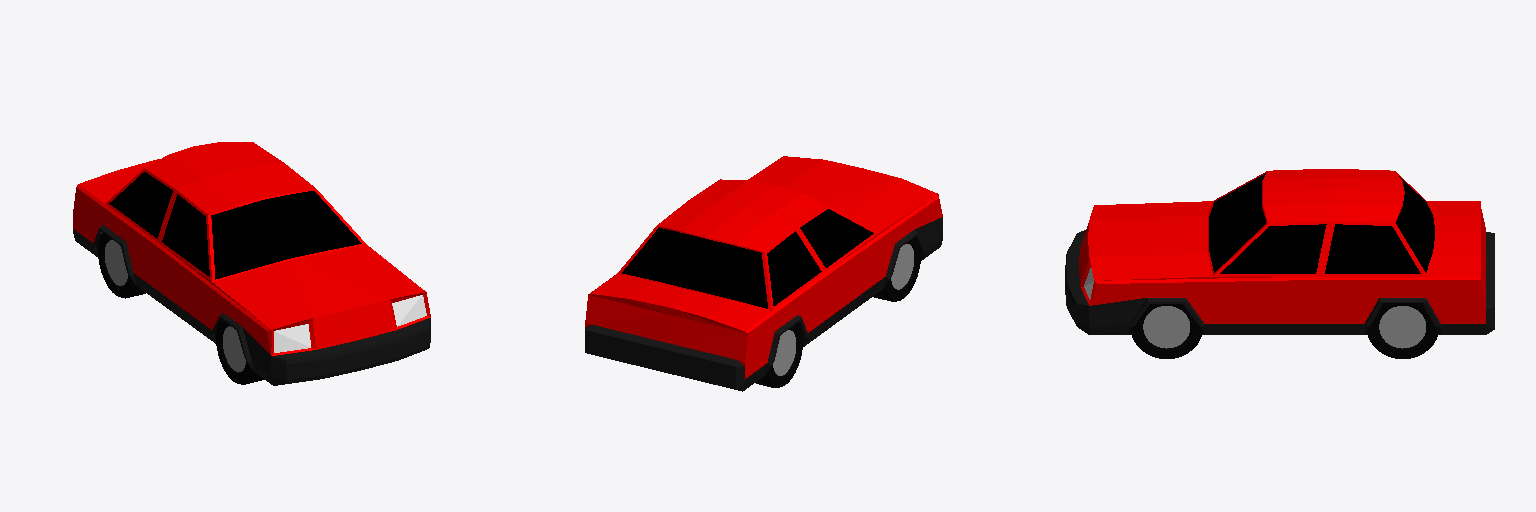
File: Car.obj
The picture shows the model from 3 angles: view 1: azimuth 30°, elevation 25°; view 2: azimuth 150°, elevation 25°; view 3: azimuth 270°, elevation 25°; orthographic projection.
Parts seen in each view (by area): view 1: Car.002; view 2: Car.002; view 3: Car.002.
Part boxes in pixels (bbox=[...]): Car.002: bbox=[73, 142, 430, 385]; Car.002: bbox=[585, 156, 942, 391]; Car.002: bbox=[1065, 169, 1494, 358].
Size of the model in its own units: 2.1 by 1.59 by 4.67.